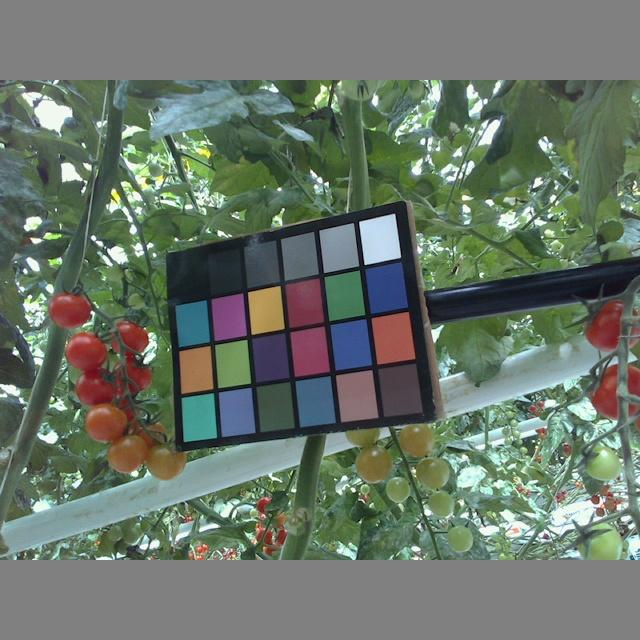green: (574, 521, 621, 560), (352, 443, 394, 485), (396, 422, 434, 457), (583, 447, 621, 481), (414, 458, 451, 488), (426, 489, 456, 519), (446, 521, 473, 550), (385, 476, 412, 502)
pink: (590, 359, 640, 424), (583, 302, 640, 353), (83, 401, 127, 443), (106, 431, 146, 472), (110, 357, 152, 396), (64, 331, 108, 368), (147, 437, 186, 478), (47, 292, 91, 328), (75, 370, 119, 406), (108, 319, 147, 356)
